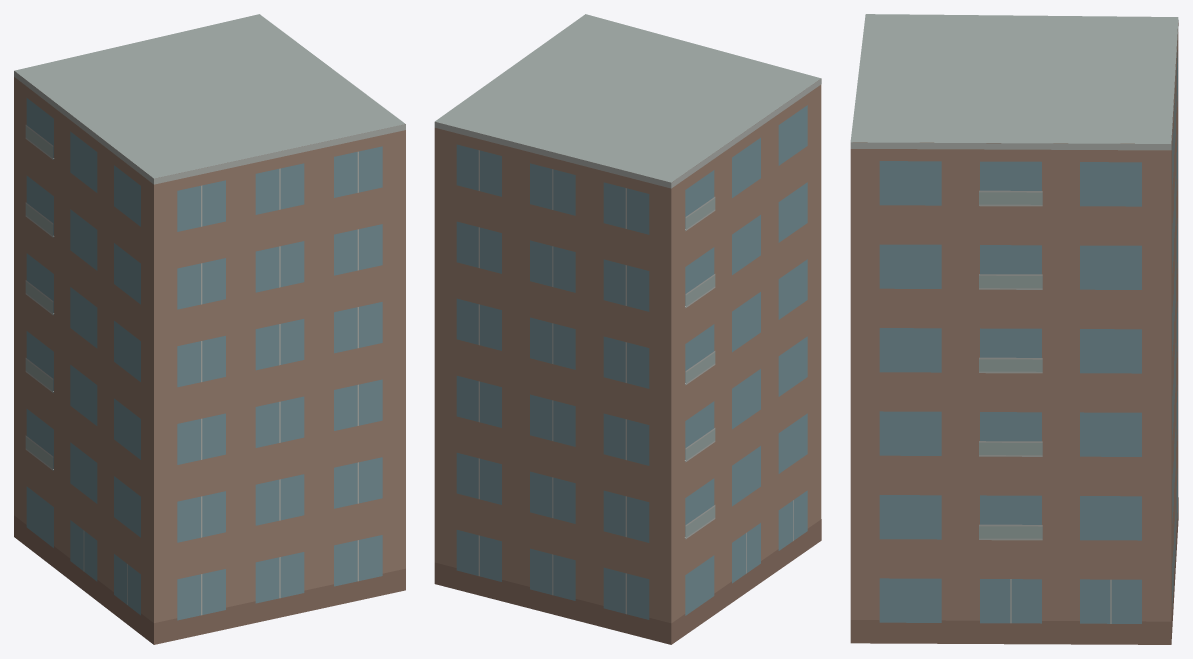
Rendered from survey-upis-32874693.glb.
The picture shows the model from 3 angles, left to right: view 1: azimuth 30°, elevation 25°; view 2: azimuth 150°, elevation 25°; view 3: azimuth 270°, elevation 25°; orthographic projection. The views are drawn at different scales.
Visible parts, largest first — view 1: survey-upis-32874693.tmp; view 2: survey-upis-32874693.tmp; view 3: survey-upis-32874693.tmp.
Boxes of the visible parts, x1,y1,x2,y2 form: survey-upis-32874693.tmp: (14,14,405,644); survey-upis-32874693.tmp: (434,14,821,644); survey-upis-32874693.tmp: (850,14,1178,644).
Bounding box in the file's own units: 10.55 × 18.95 × 11.26.
